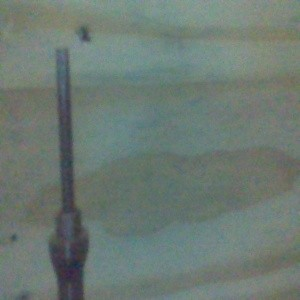obeng: (46, 46, 90, 300)
